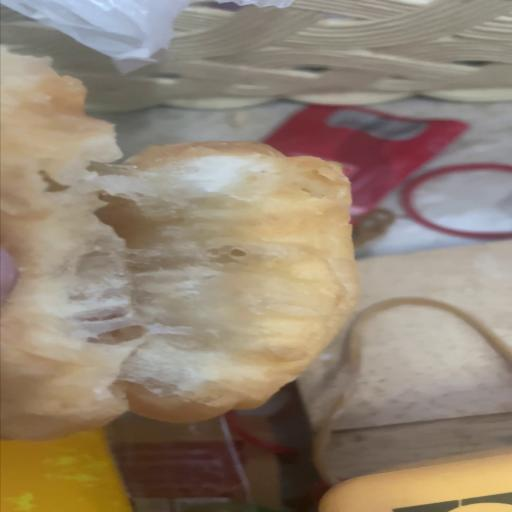street_golden_defect: (1, 143, 359, 428)
